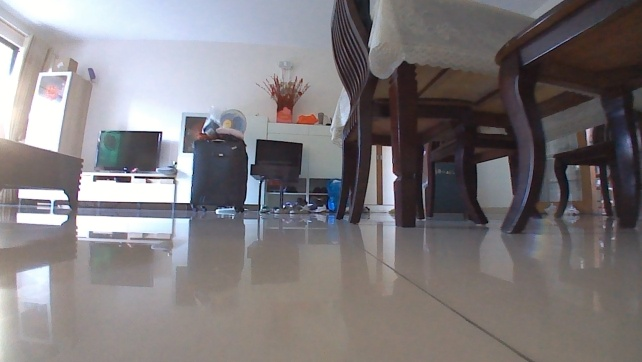dining_table: (318, 0, 641, 230)
